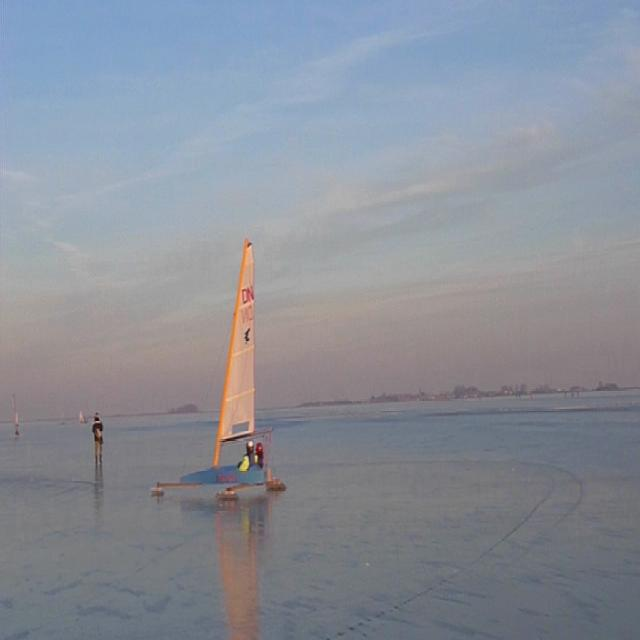Boat: (138, 278, 279, 513)
